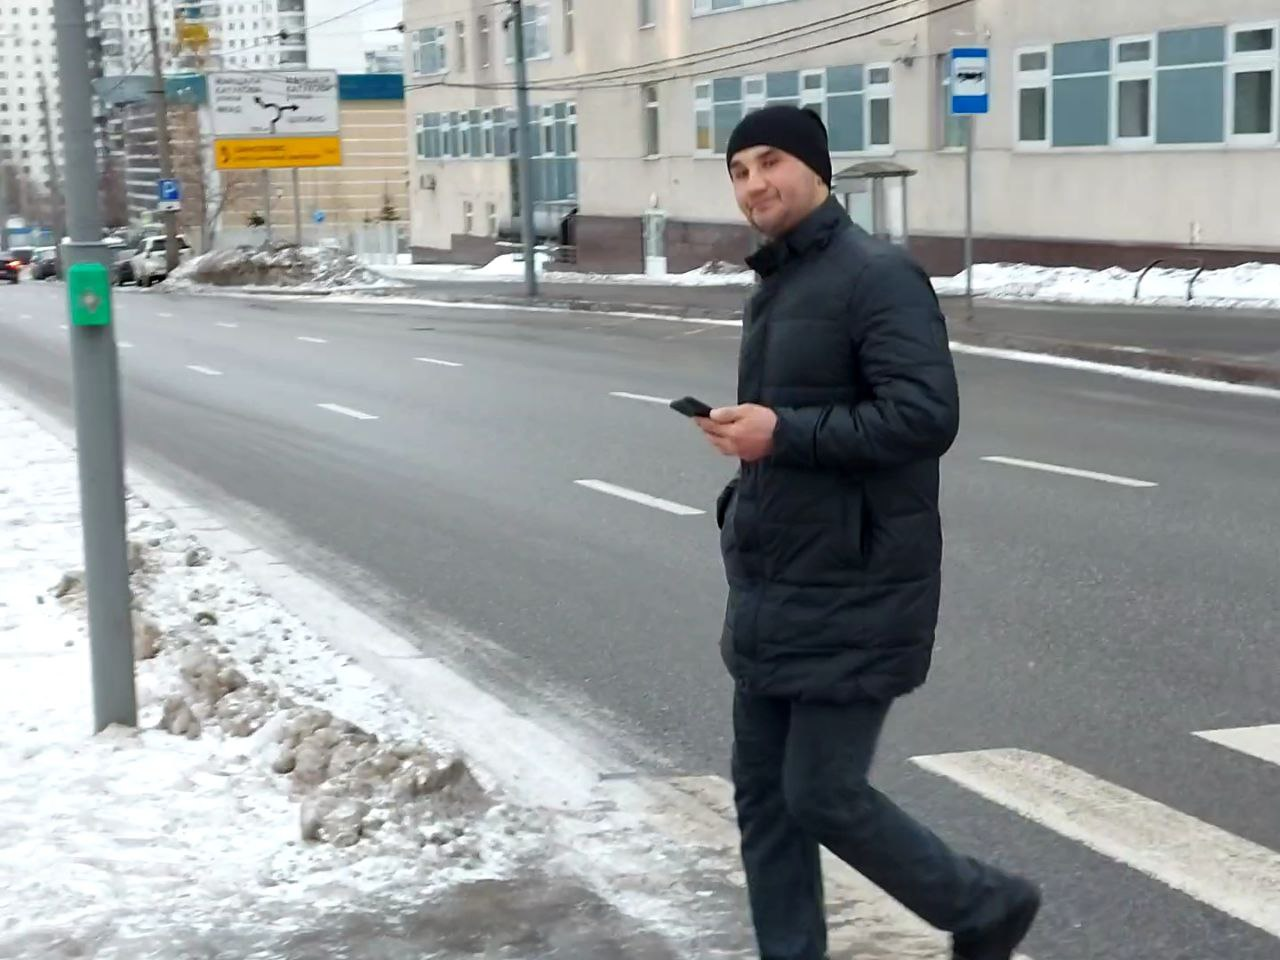sombie: (641, 87, 1059, 960)
